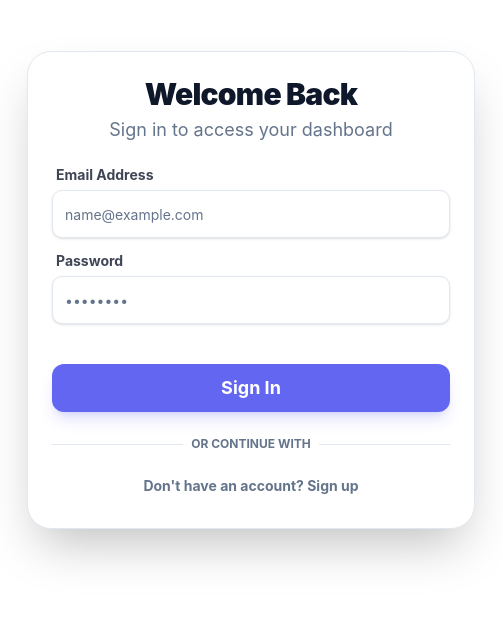
Login Component › handles network errors and fallback messages
The width and height of the screenshot is (503, 617).
Type "test@test.com" into the field labelled "Email Address" at {"x": 251, "y": 214}, box [52, 190, 450, 238]
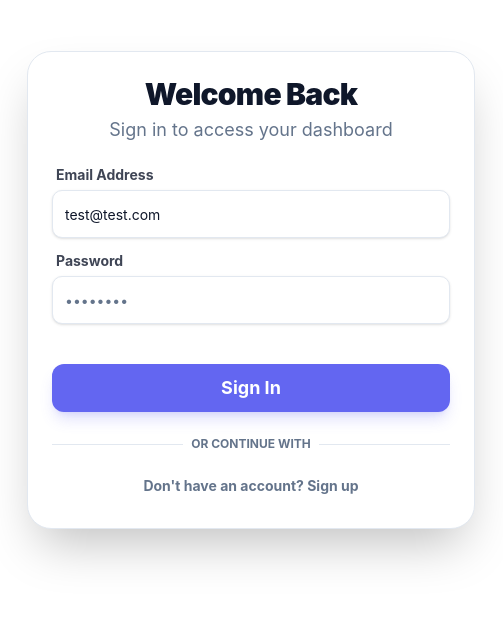
Type "test" into the password field labelled "Password" at {"x": 251, "y": 300}, box [52, 276, 450, 324]
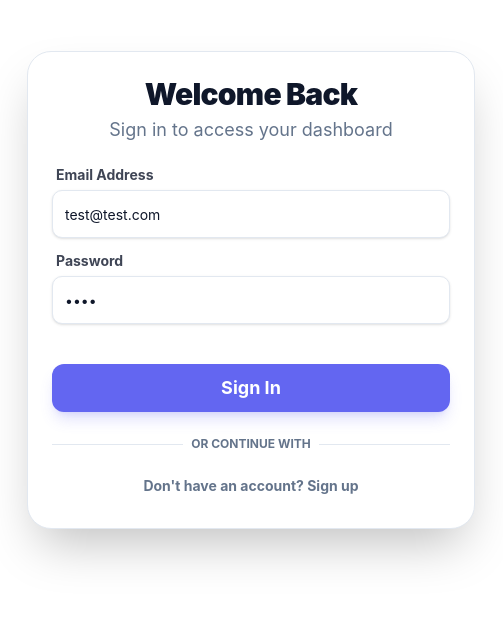
Click the button "Sign In" at {"x": 251, "y": 388}, box [52, 364, 450, 412]
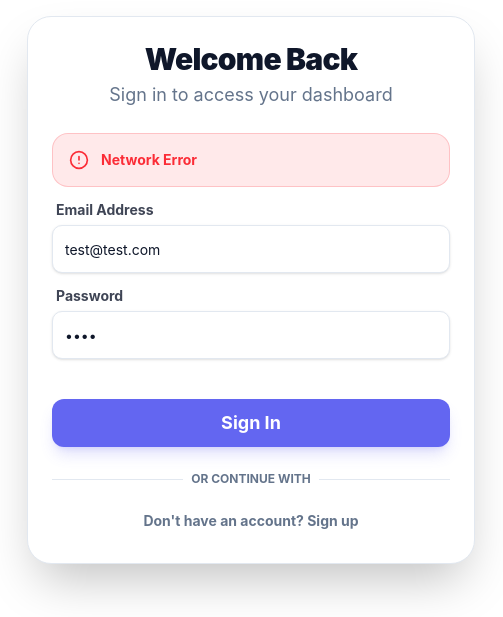
Expected: the text "Network Error" is shown, [52, 133, 450, 187]
Click the button "Sign In" at {"x": 251, "y": 423}, box [52, 399, 450, 447]
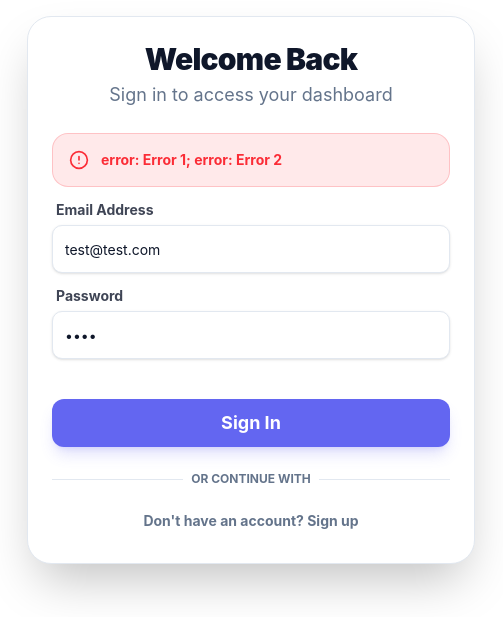
Expected: the text "error: Error 1; error: Error 2" is shown, [52, 133, 450, 187]
